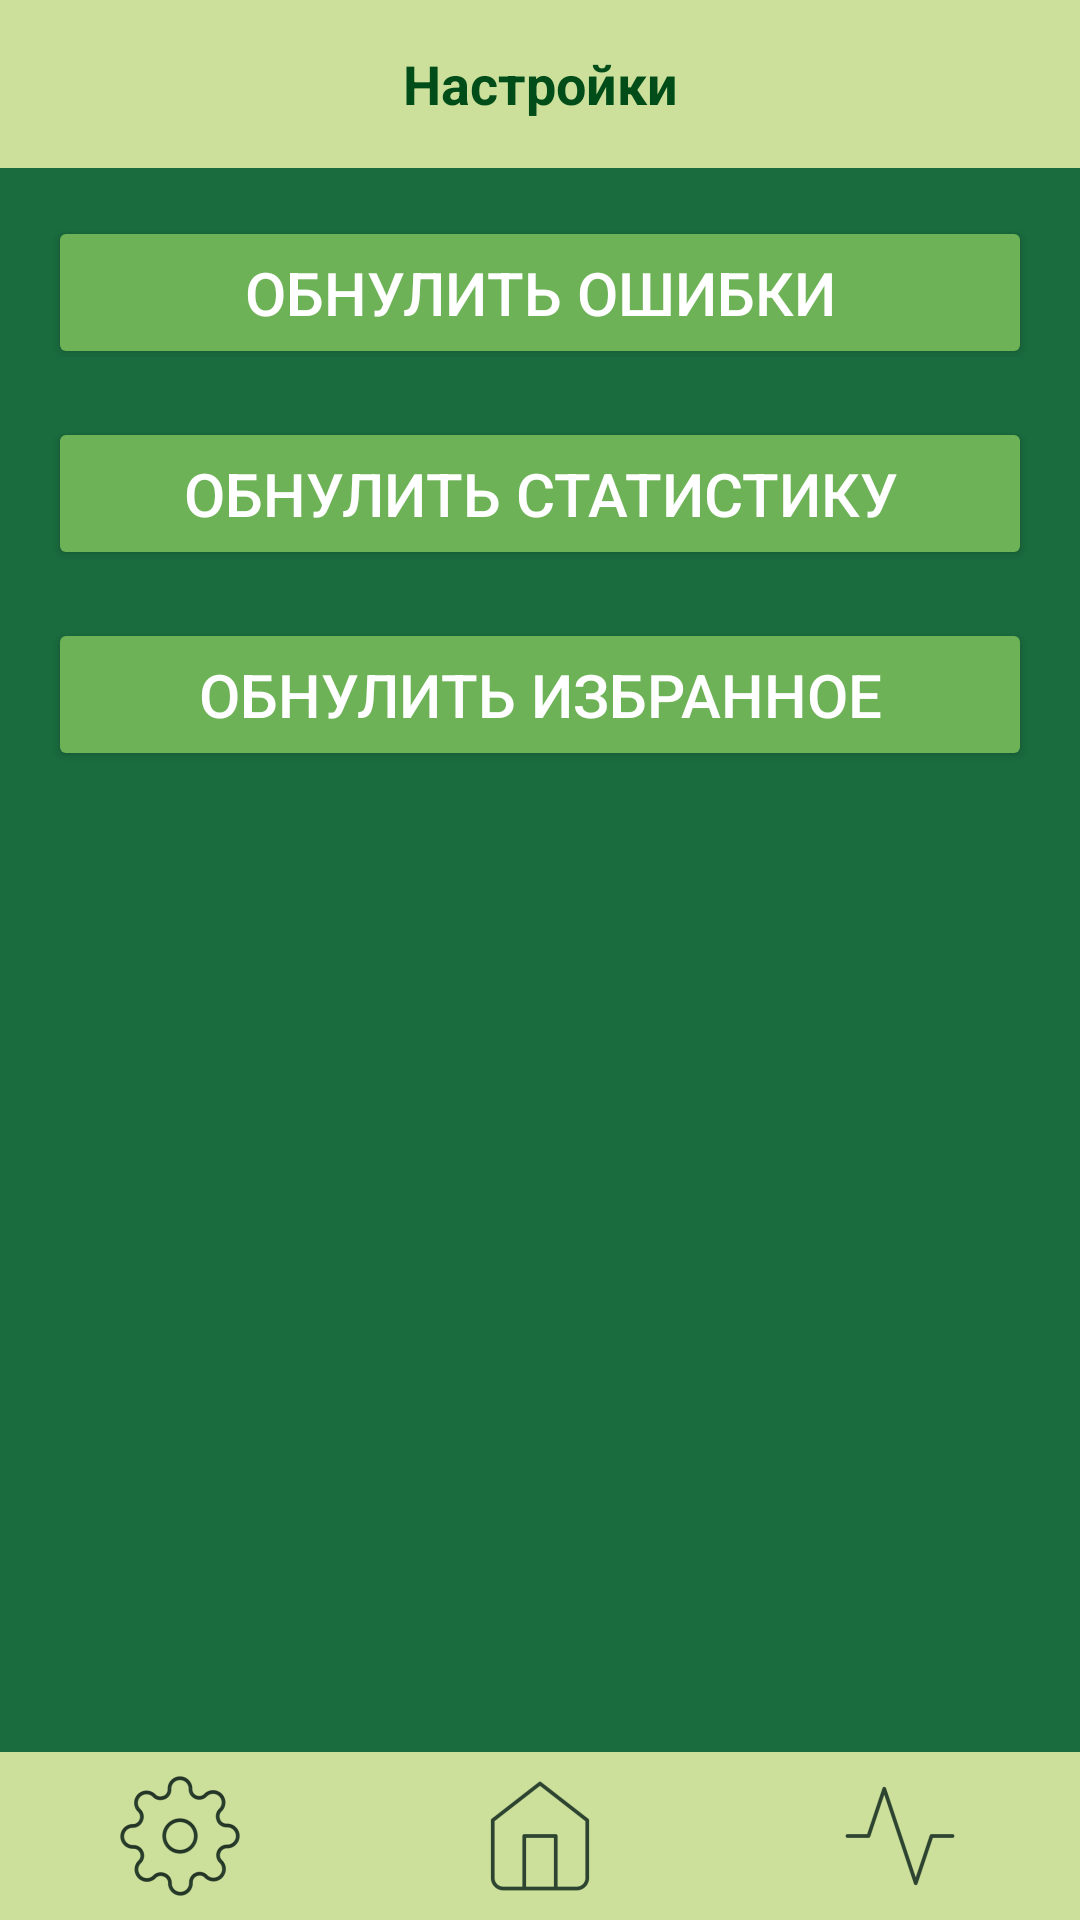

Screen size 1080px x 1920px. Icon name, then its center in pixels as (x,y):
home: (540,1836)
setting: (180,1836)
stats: (900,1836)
